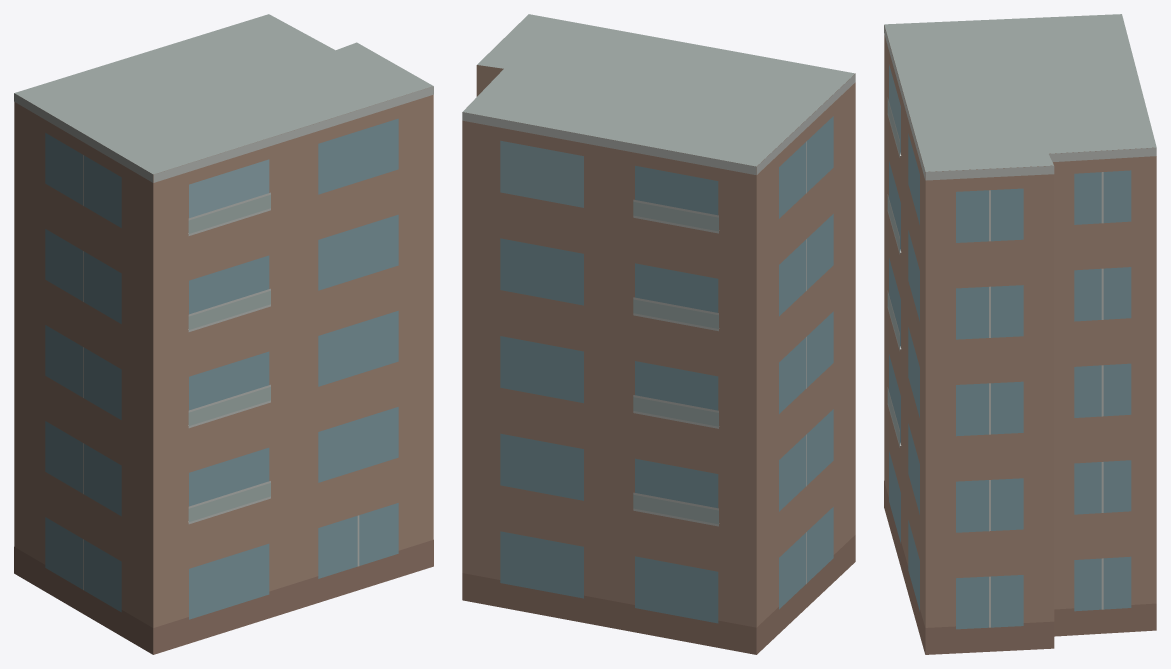
The model's file is survey-upis-32809428.glb.
3 views of the same model, side by side, from view 1: azimuth 30°, elevation 25°; view 2: azimuth 150°, elevation 25°; view 3: azimuth 270°, elevation 25° (orthographic).
Visible parts, largest first — view 1: survey-upis-32809428.tmp; view 2: survey-upis-32809428.tmp; view 3: survey-upis-32809428.tmp.
Boxes of the visible parts, box(x1,y1,x2,y2) form: survey-upis-32809428.tmp: box(14, 14, 433, 654); survey-upis-32809428.tmp: box(462, 14, 855, 654); survey-upis-32809428.tmp: box(884, 14, 1156, 654).
Bounding box in the file's own units: 9.62 × 13.7 × 7.02.
